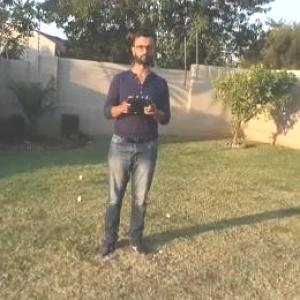follow: (88, 21, 174, 263)
